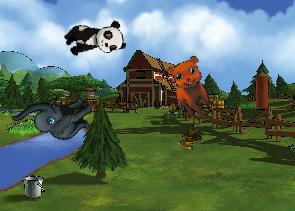bear: (159, 50, 226, 121)
elephant: (10, 73, 99, 160)
panda: (62, 19, 126, 59)
